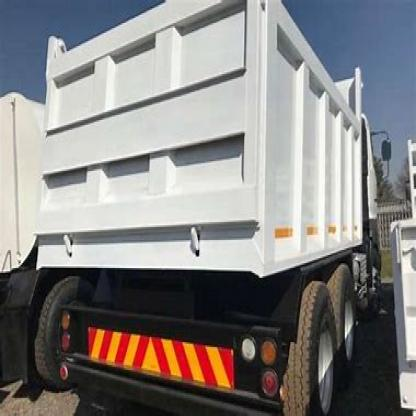dump_truck: (25, 5, 394, 408)
